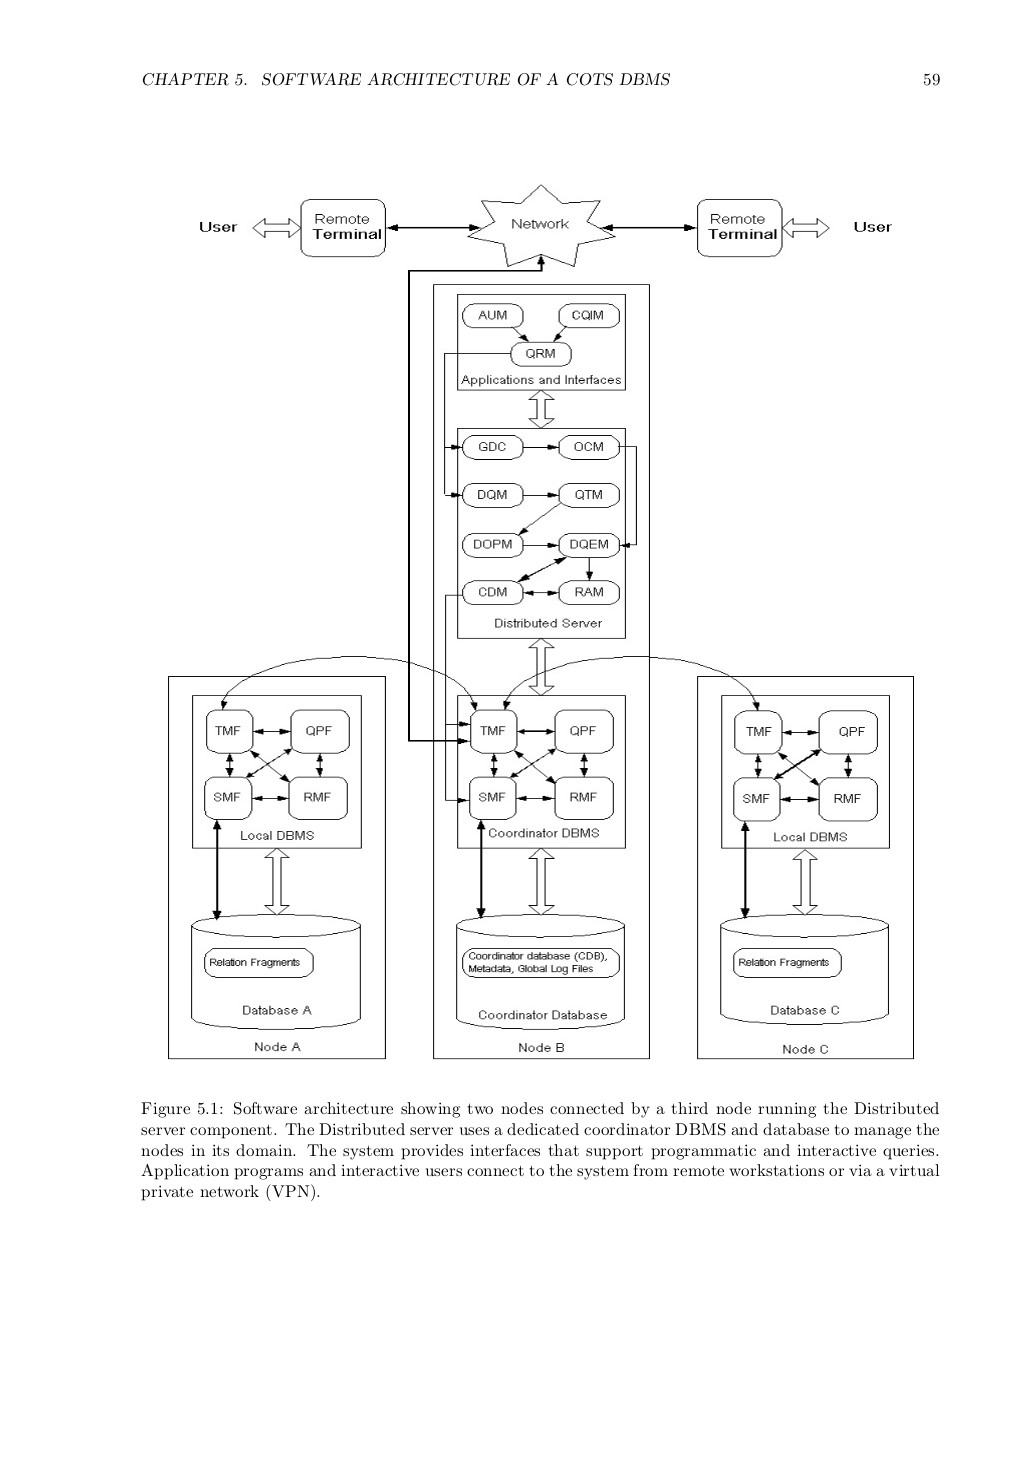figure: (168, 182, 912, 1060)
